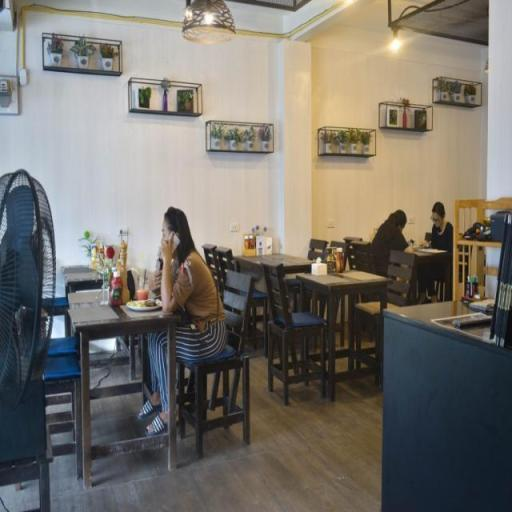table: (62, 271, 180, 346), (291, 255, 393, 309), (230, 234, 324, 288)
